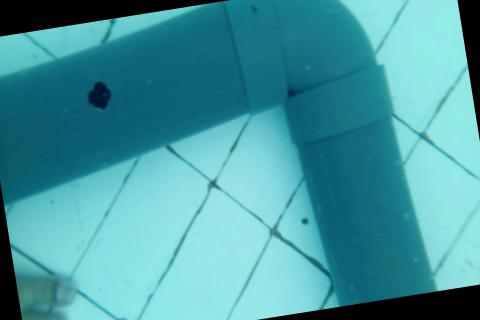kebocoran: (83, 78, 114, 114)
